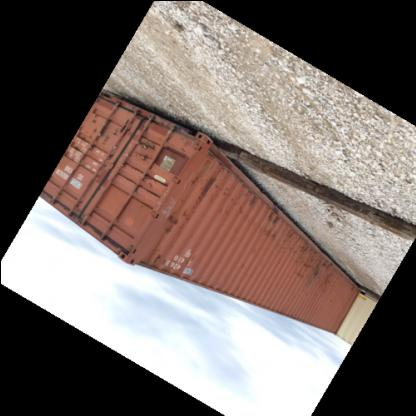Damage: (192, 172, 222, 212), (297, 255, 338, 283), (157, 210, 195, 239), (226, 184, 256, 212), (260, 209, 285, 242), (282, 234, 304, 262), (127, 110, 152, 132)
